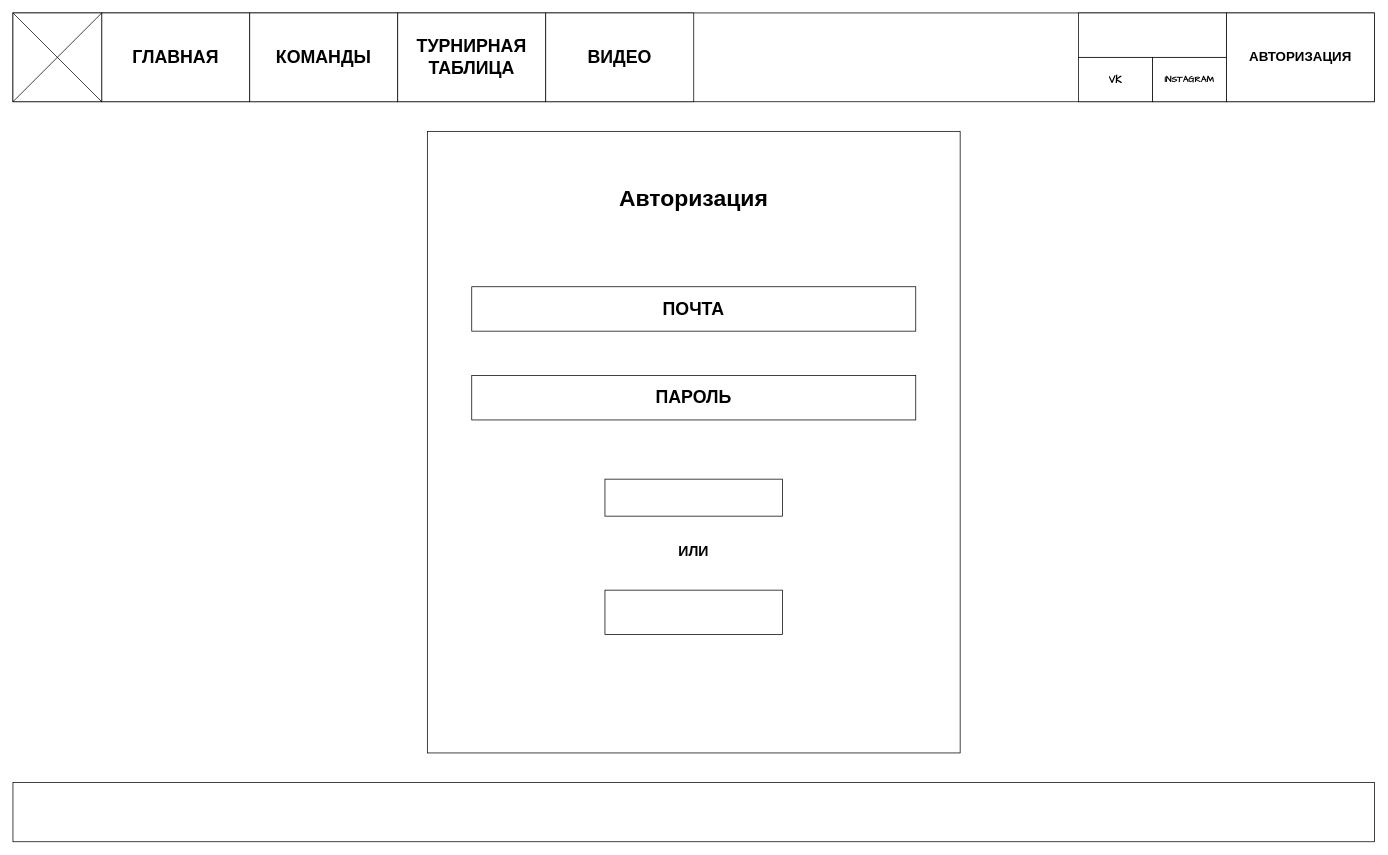
This 1388x855 diagram has some shape labels left out. Here are the shapes that lost their labels. From the top down, the centre of each, then its label:
the point at 1152,34: ОБРАТНАЯ СВЯЗЬ
the point at 693,497: ВОЙТИ
the point at 693,612: СОЗДАТЬ АККАУНТ
the point at 693,812: ПОДВАЛ
